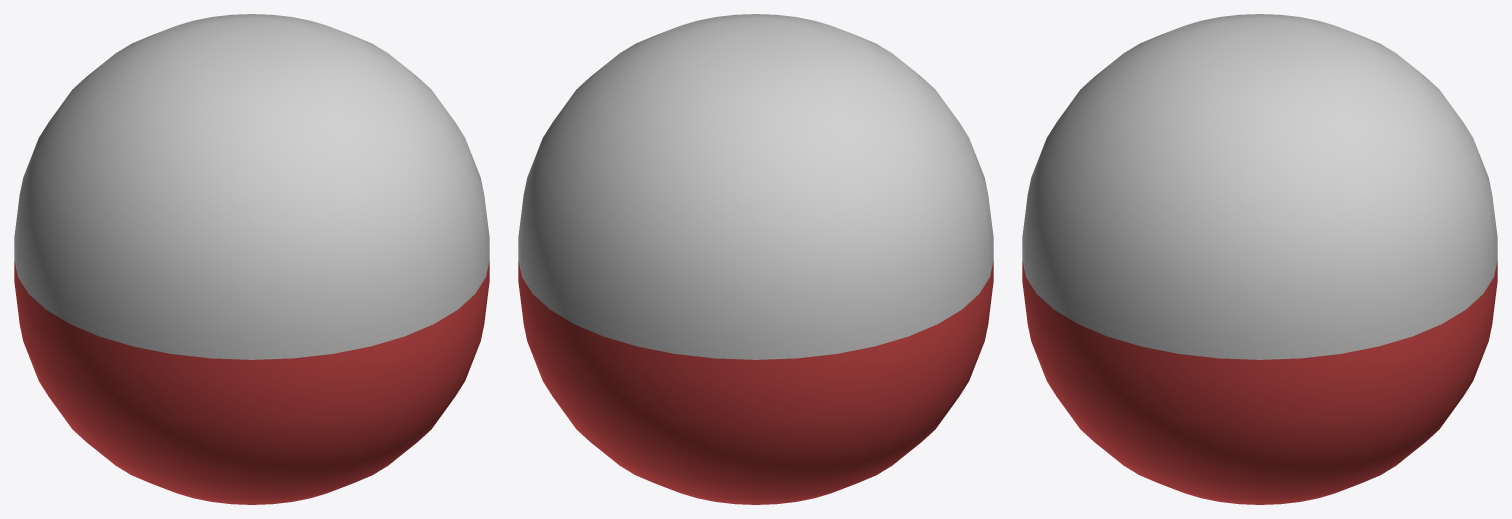
The model's file is GACHAPON CAPSULE.fbx.
3 views of the same model, side by side, from view 1: azimuth 30°, elevation 25°; view 2: azimuth 150°, elevation 25°; view 3: azimuth 270°, elevation 25° (orthographic).
Parts seen in each view (by area): view 1: Cylinder; view 2: Cylinder; view 3: Cylinder.
Boxes of the visible parts, left/top/right/bottom form: Cylinder: left=14, top=14, right=489, bottom=504; Cylinder: left=518, top=14, right=993, bottom=504; Cylinder: left=1022, top=14, right=1497, bottom=504.
Bounding box in the file's own units: 10 × 10 × 10.
